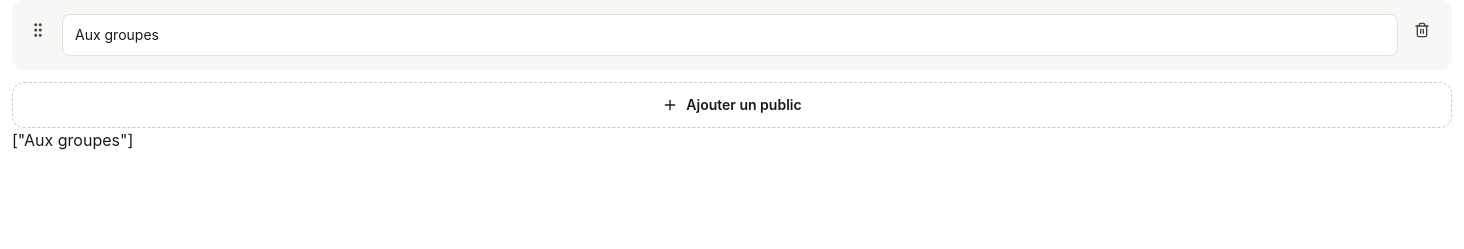
Test case: RepeatableList › ajoute, modifie et supprime des éléments
This screenshot has width=1464, height=249.
Click the button "Ajouter un public".
click(732, 105)  # box [12,82,1452,128]
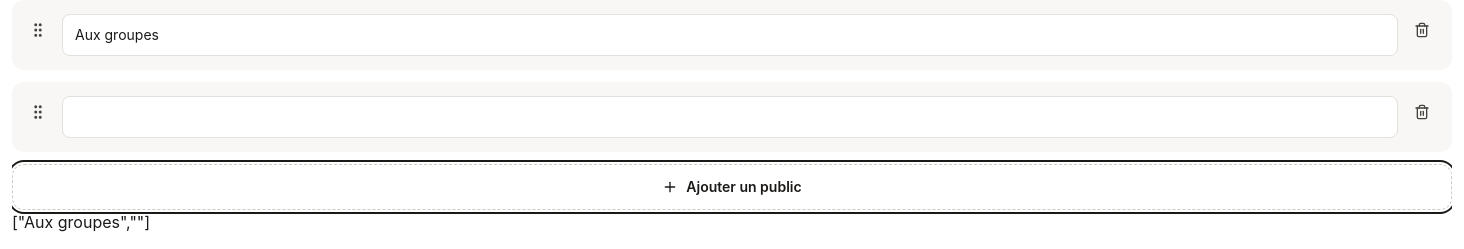
Type "À la diaspora" into the field named "Public 2".
click(730, 117); type("À la diaspora")  # box [62,96,1398,138]
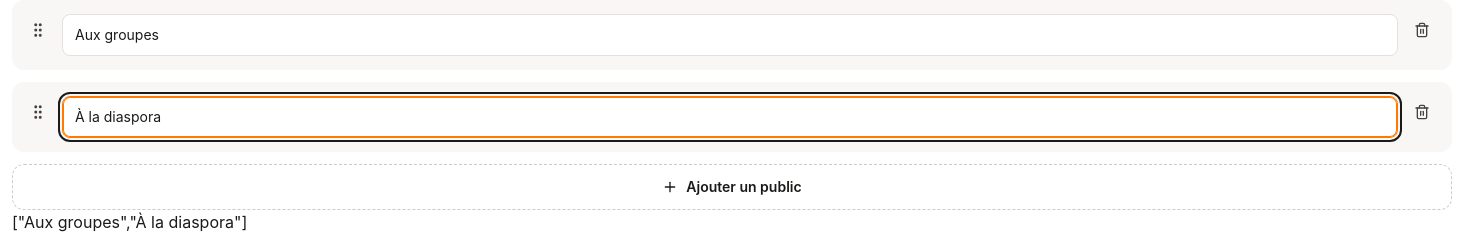
Expected: the text with test id "value" reads "[\"Aux groupes\",\"À la diaspora\"]", [12,212,247,232]
Click the button named "Supprimer Aux groupes".
click(1422, 30)  # box [1406,14,1438,46]
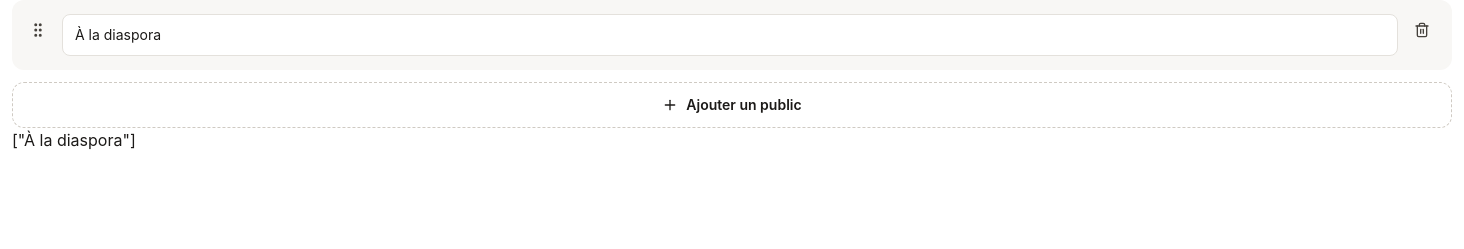
Expected: the text with test id "value" reads "[\"À la diaspora\"]", [12,130,136,150]
